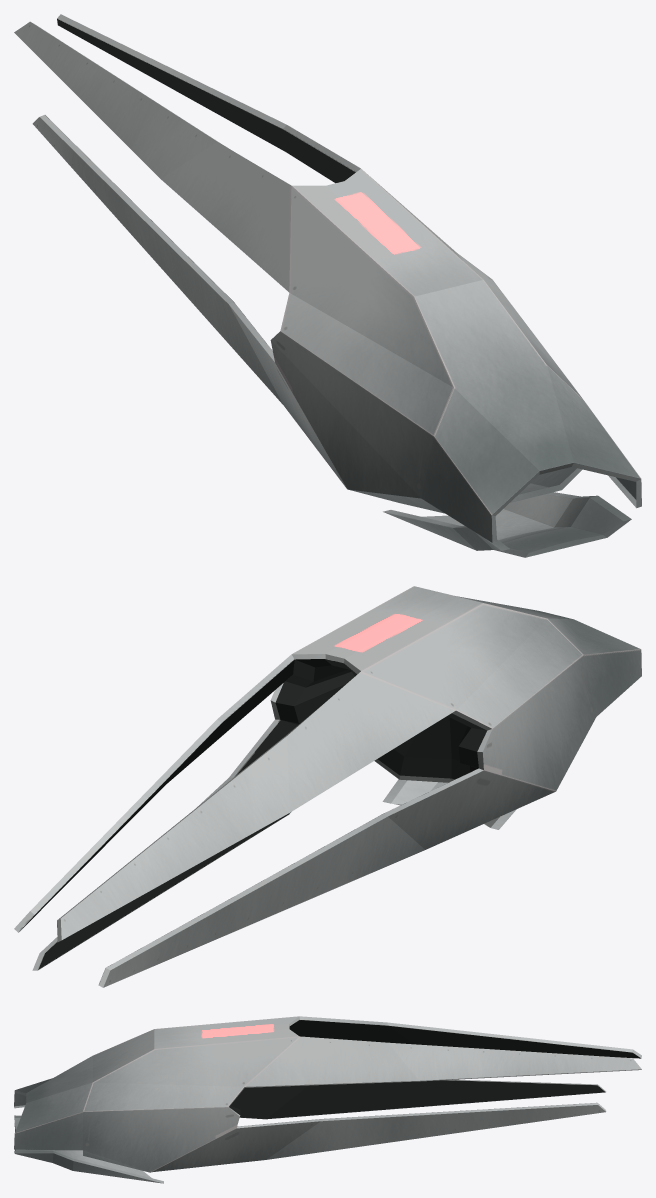
Rendered from Knight.Gun.fbx.
3 renders of one model, top to bottom at view 1: azimuth 30°, elevation 25°; view 2: azimuth 150°, elevation 25°; view 3: azimuth 270°, elevation 25°, orthographic. The views are drawn at different scales.
Parts seen in each view (by area): view 1: Gun; view 2: Gun; view 3: Gun.
Boxes of the visible parts, box(x1,y1,x2,y2) form: Gun: box(14, 14, 641, 557); Gun: box(14, 586, 641, 987); Gun: box(14, 1016, 641, 1183).
Size of the model in its own units: 32.1 by 35.37 by 139.
1 material, 1 textured.
